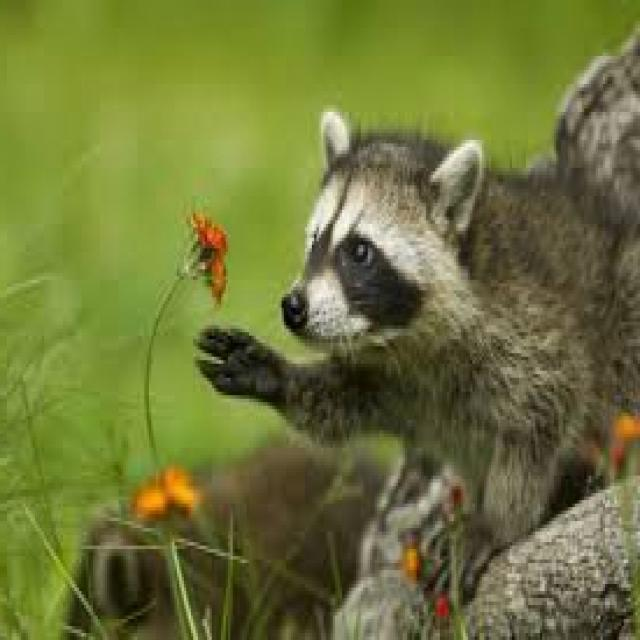raccoon: (198, 28, 640, 539)
